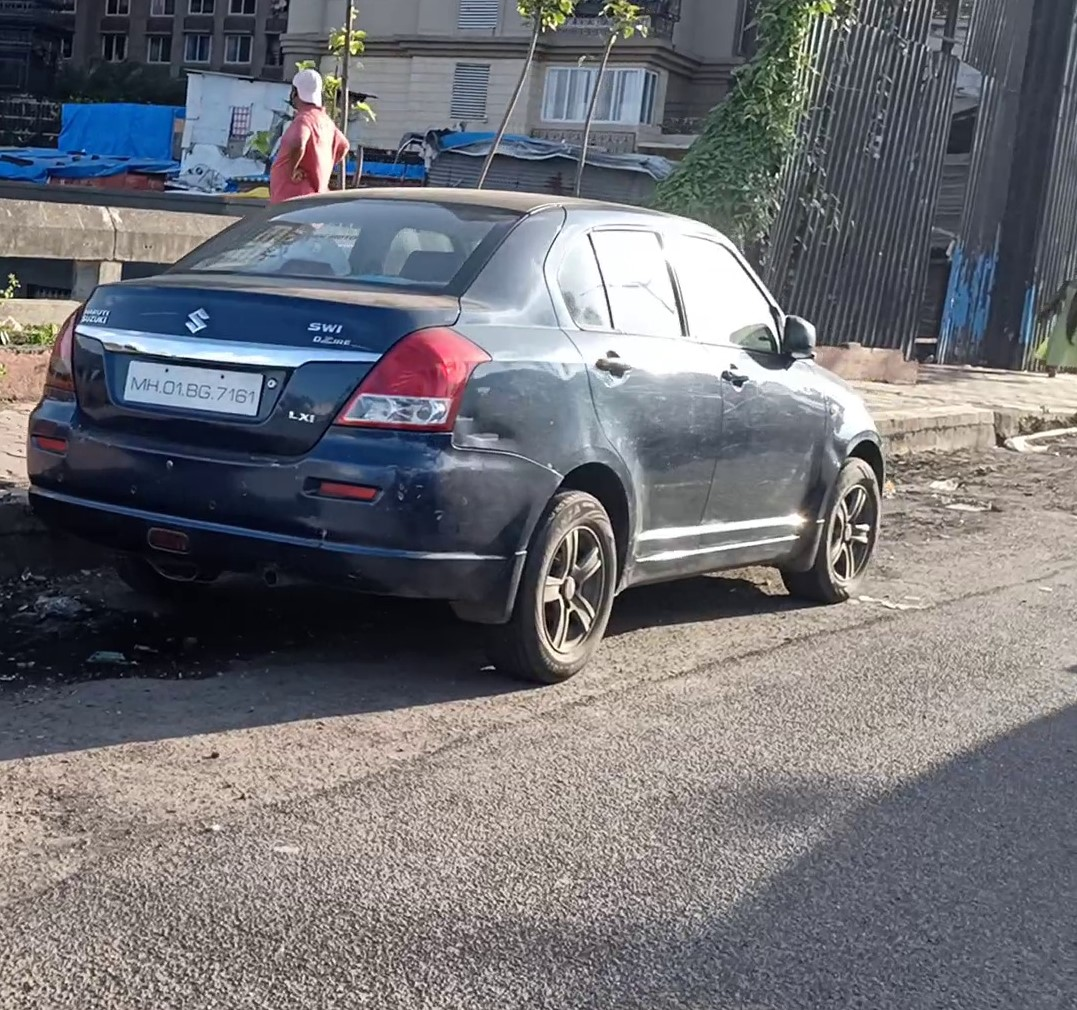MH01BG7161: (122, 354, 265, 418)
